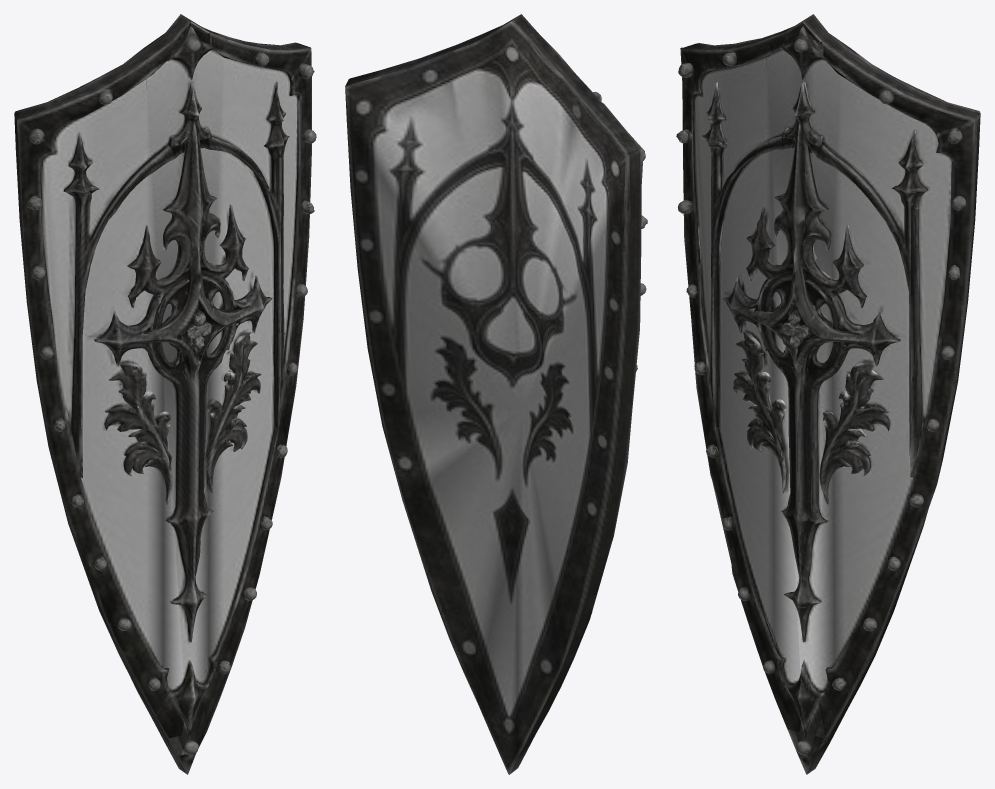
Rendered from shield-heater.glb.
3 views of the same model, side by side, from view 1: azimuth 30°, elevation 25°; view 2: azimuth 150°, elevation 25°; view 3: azimuth 330°, elevation 25° (orthographic).
Size of the model in its own units: 0.3892 by 0.9521 by 0.1055.
1 material, 1 textured.
